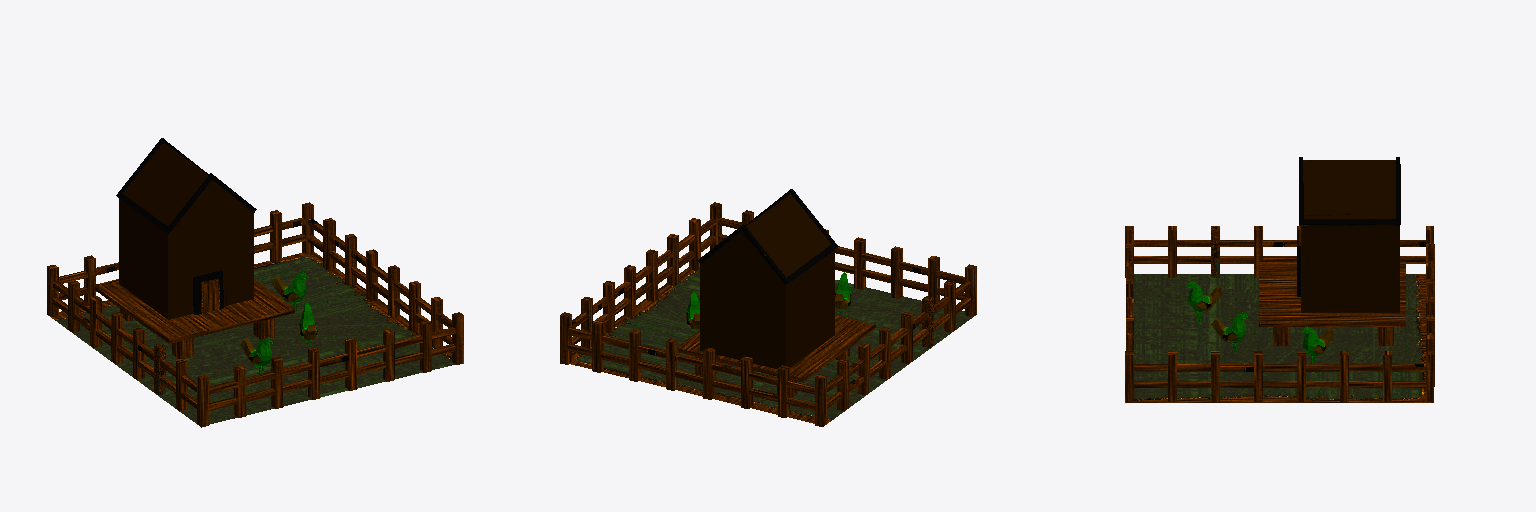
3 renders of one model, left to right at view 1: azimuth 30°, elevation 25°; view 2: azimuth 150°, elevation 25°; view 3: azimuth 270°, elevation 25°, orthographic.
Parts seen in each view (by area): view 1: Cube_Cube.000, Cube_Cube.002, Cube_Cube.003; view 2: Cube_Cube.000; view 3: Cube_Cube.000, Cube_Cube.004, Cube_Cube.003, Cube_Cube.002.
Part boxes in pixels (bbox=[...]): Cube_Cube.000: bbox=[47, 138, 463, 427]; Cube_Cube.002: bbox=[272, 272, 308, 313]; Cube_Cube.003: bbox=[241, 337, 272, 373]; Cube_Cube.000: bbox=[560, 189, 976, 426]; Cube_Cube.000: bbox=[1125, 157, 1434, 402]; Cube_Cube.004: bbox=[1211, 312, 1248, 353]; Cube_Cube.003: bbox=[1186, 281, 1222, 322]; Cube_Cube.002: bbox=[1302, 326, 1334, 363].
Size of the model in its own units: 2.96 by 1.77 by 3.
Materials: 2 (2 with a texture image).